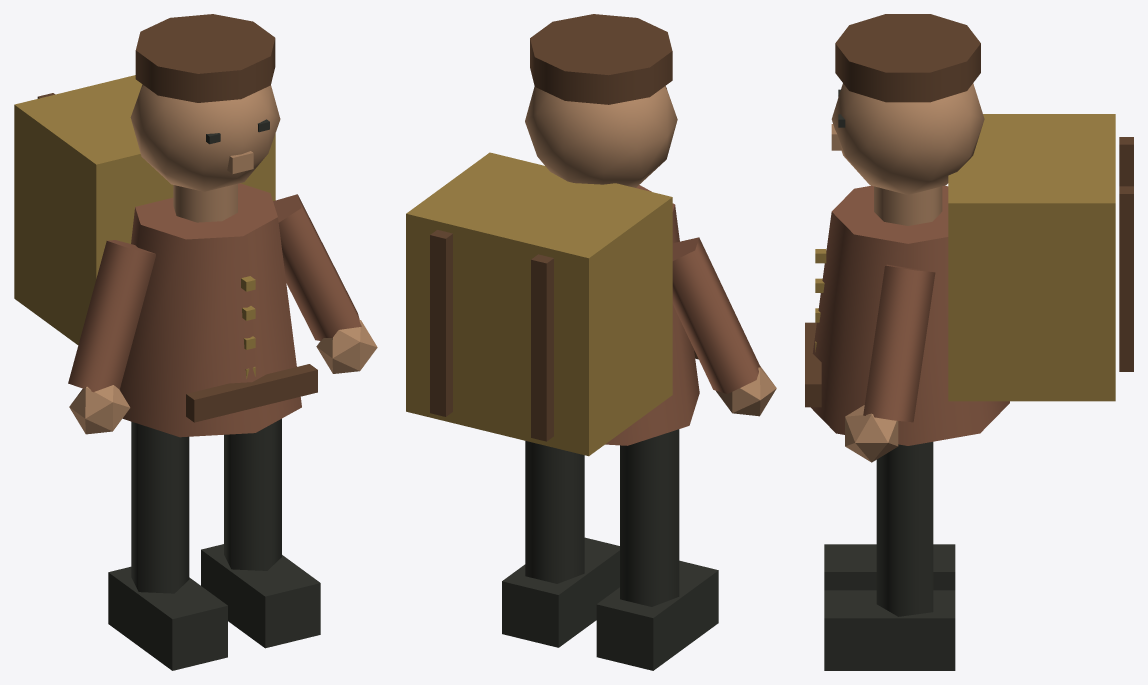
File: custom-person-porter.glb
The picture shows the model from 3 angles, left to right: view 1: azimuth 30°, elevation 25°; view 2: azimuth 150°, elevation 25°; view 3: azimuth 270°, elevation 25°; orthographic projection. The views are drawn at different scales.
Parts seen in each view (by area): view 1: custom-person-porter; view 2: custom-person-porter; view 3: custom-person-porter.
Boxes of the visible parts, x1,y1,x2,y2 form: custom-person-porter: (14, 14, 377, 670); custom-person-porter: (406, 14, 776, 670); custom-person-porter: (805, 14, 1133, 670).
Bounding box in the file's own units: 1 × 1.89 × 0.9542.
